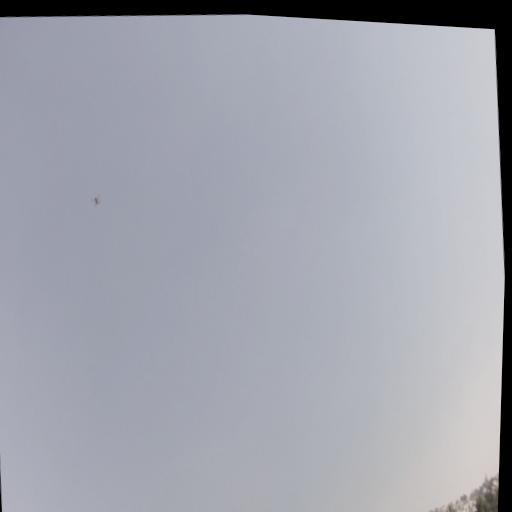drones: (89, 191, 104, 209)
